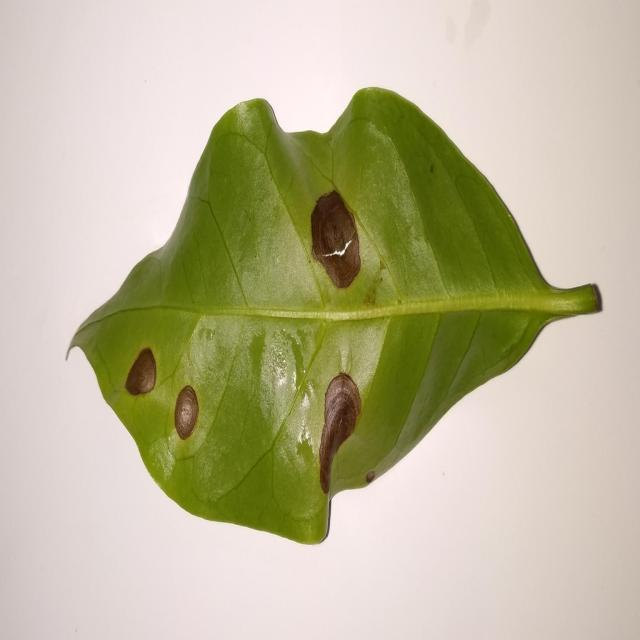Enfermedad-Antracnosis: (67, 88, 604, 548)
